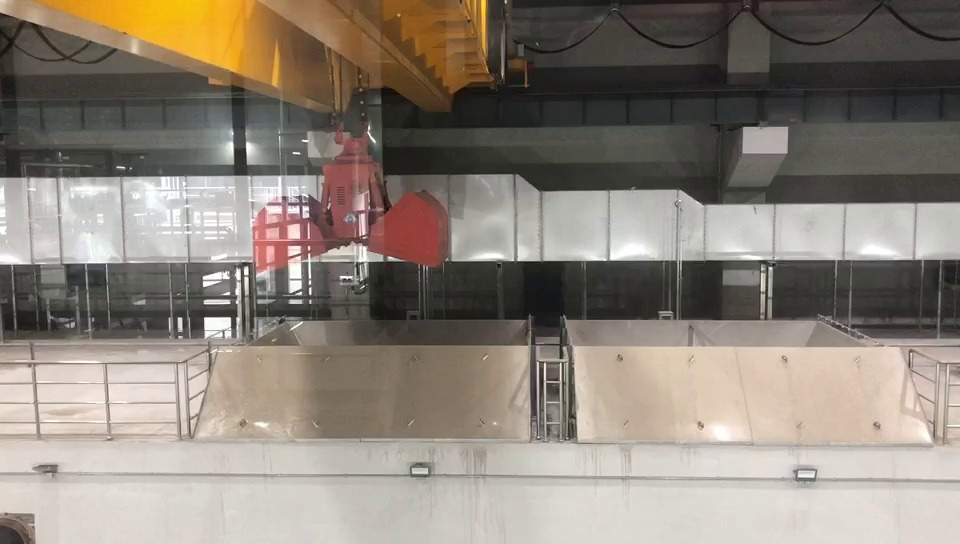grab: (246, 115, 455, 275)
